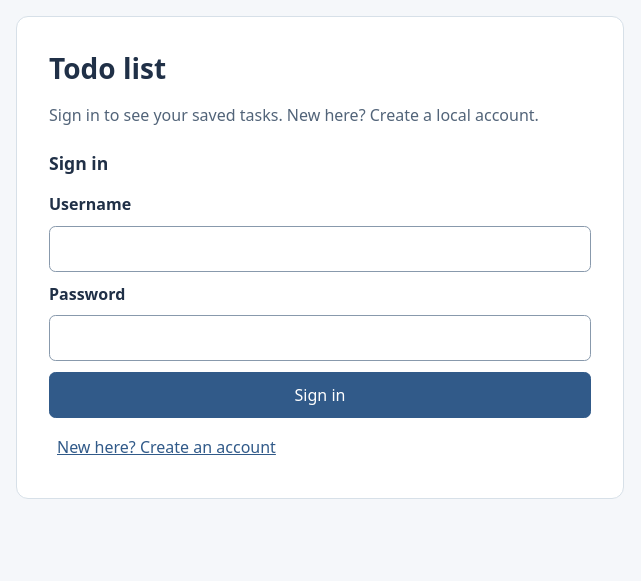
Scenario: reports incorrect credentials without loading tasks
The image size is (641, 581).
Check: the heading "Sign in" is shown, box [49,151,108,175]
Type "alice" into the field labelled "Username" at x=320, y=249, box [49,226,591,272]
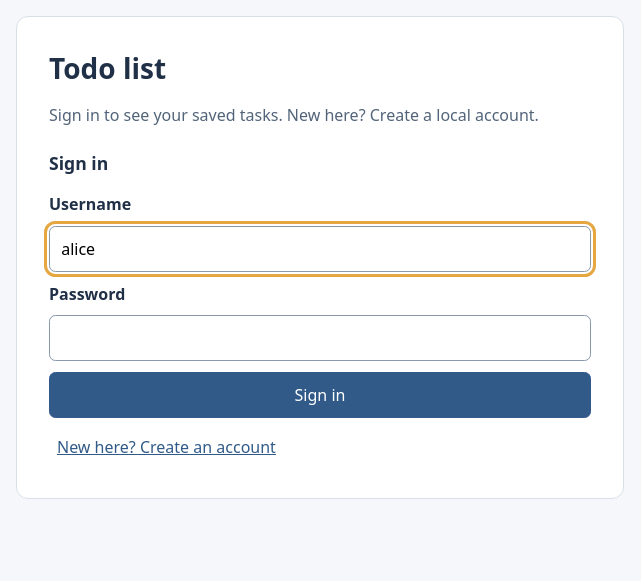
Type "wrong-password" into the password field labelled "Password" at x=320, y=338, box [49,315,591,361]
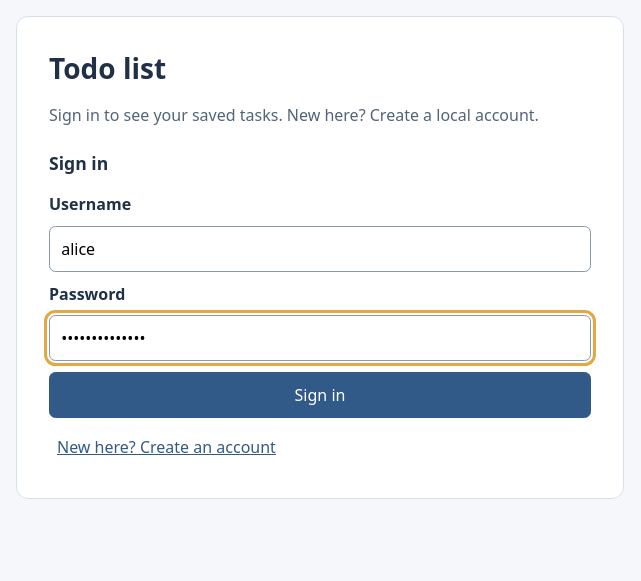
Click the button "Sign in" at x=320, y=395, box [49,372,591,418]
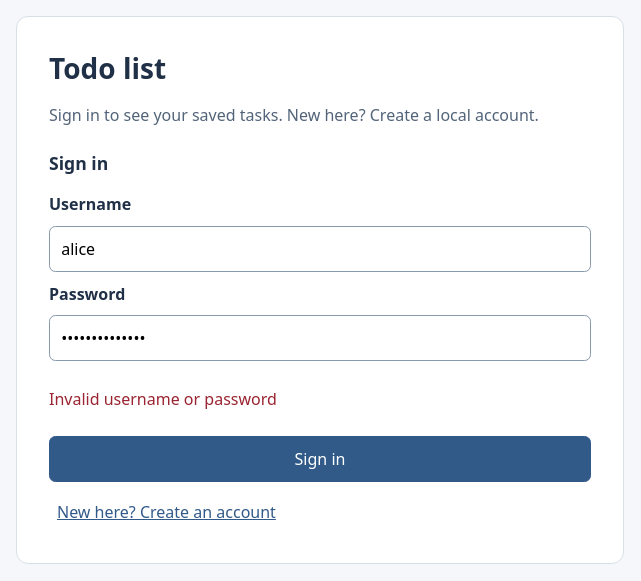
Check: the message reads "Invalid username or password", box [49,388,277,410]
